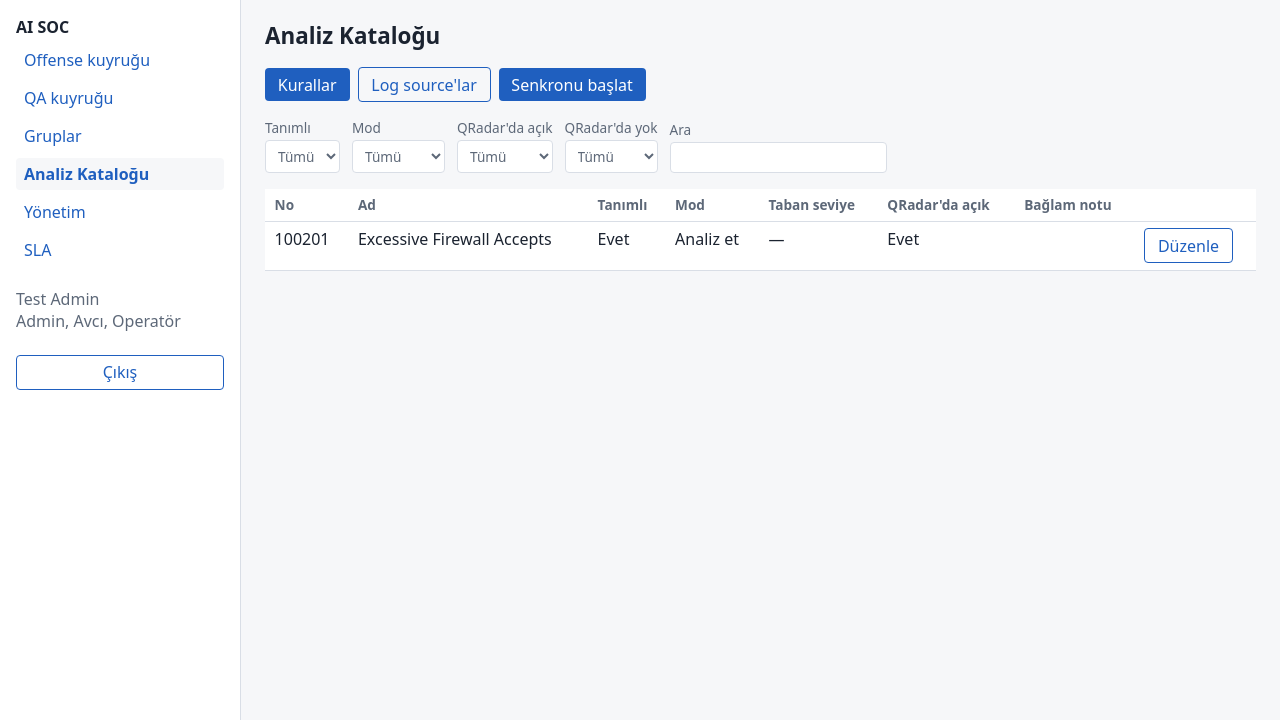
Test: catalog (criterion 8) › shows the refusal of an invalid rule
The width and height of the screenshot is (1280, 720).
Click the button "Düzenle": (1188, 246) [1144,228,1233,263]
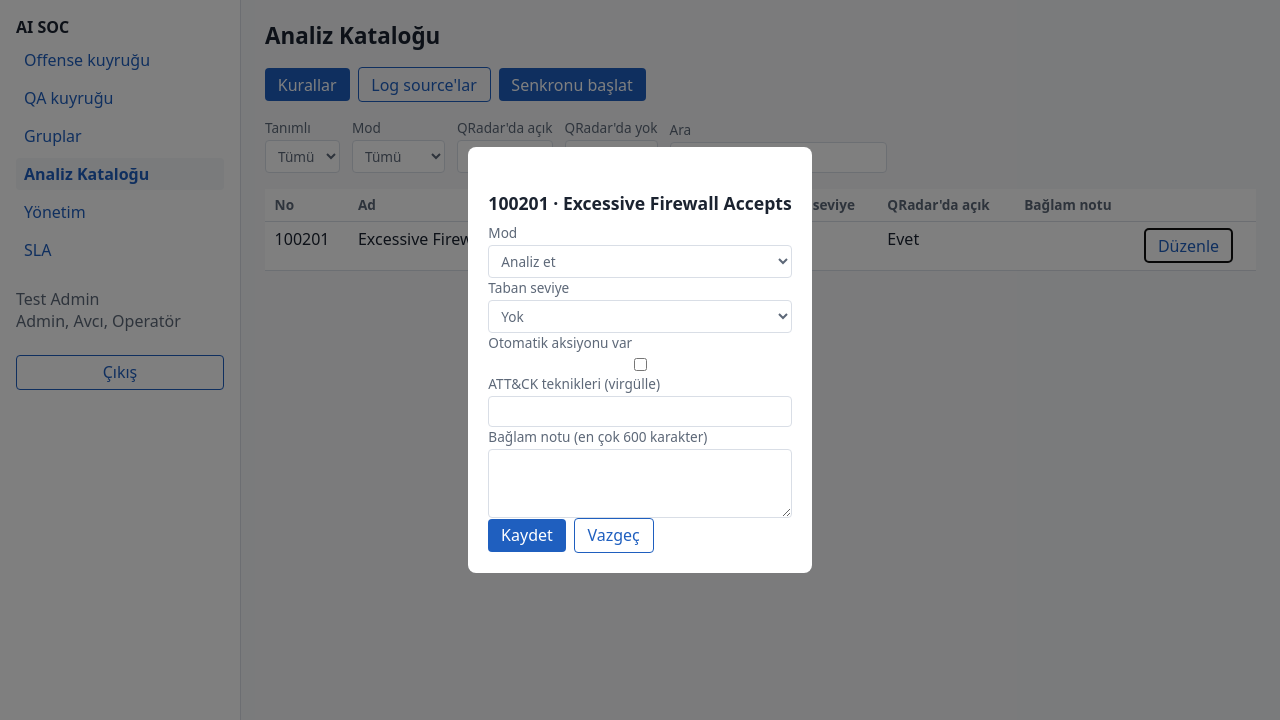
Click the button "Kaydet": (527, 535) [488,519,566,552]
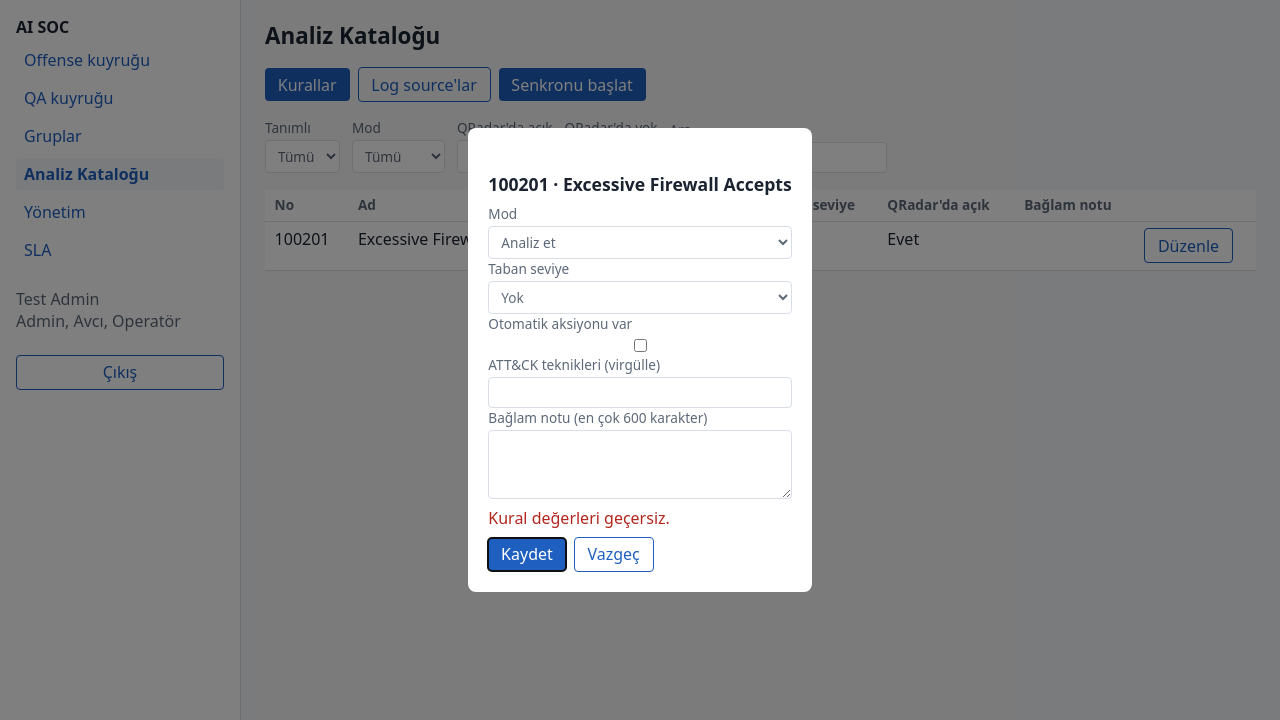
Expected: the text "Kural değerleri geçersiz." is shown, [488,507,670,529]
